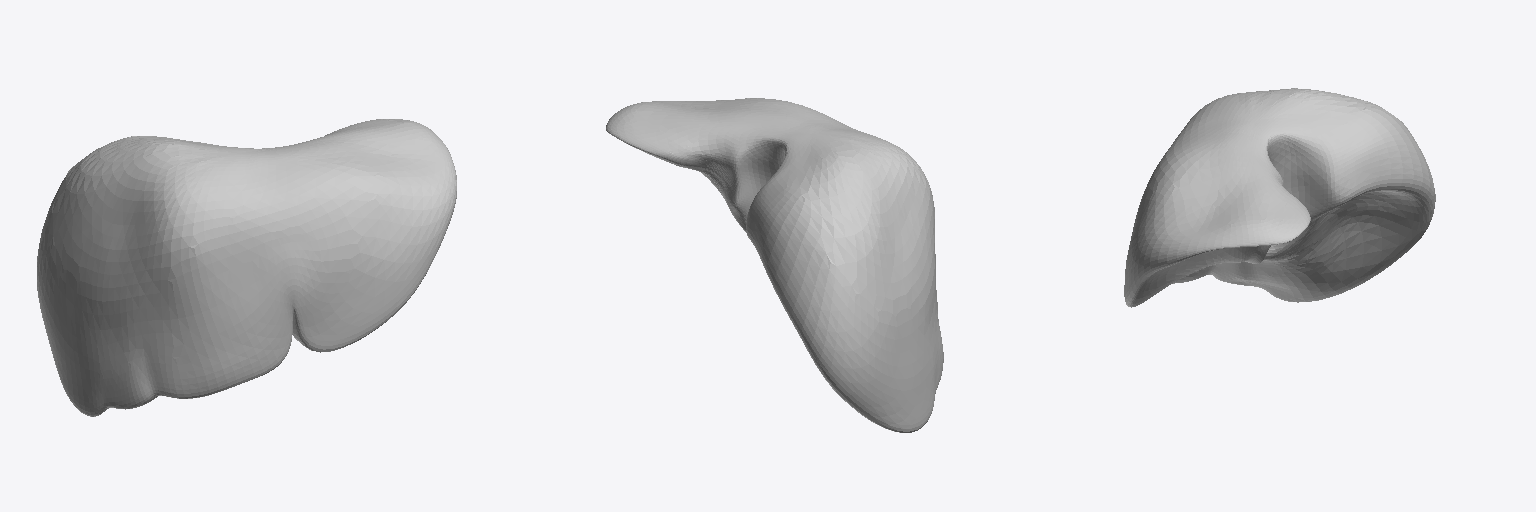
Rendered from liver.obj.
3 views of the same model, side by side, from view 1: azimuth 30°, elevation 25°; view 2: azimuth 150°, elevation 25°; view 3: azimuth 270°, elevation 25° (orthographic).
Parts seen in each view (by area): view 1: default; view 2: default; view 3: default.
Part boxes in pixels (x1,y1,x2,y2): default: (37,119,456,416); default: (606,98,943,432); default: (1124,88,1435,307).
Bounding box in the file's own units: 15.31 × 11.05 × 12.46.